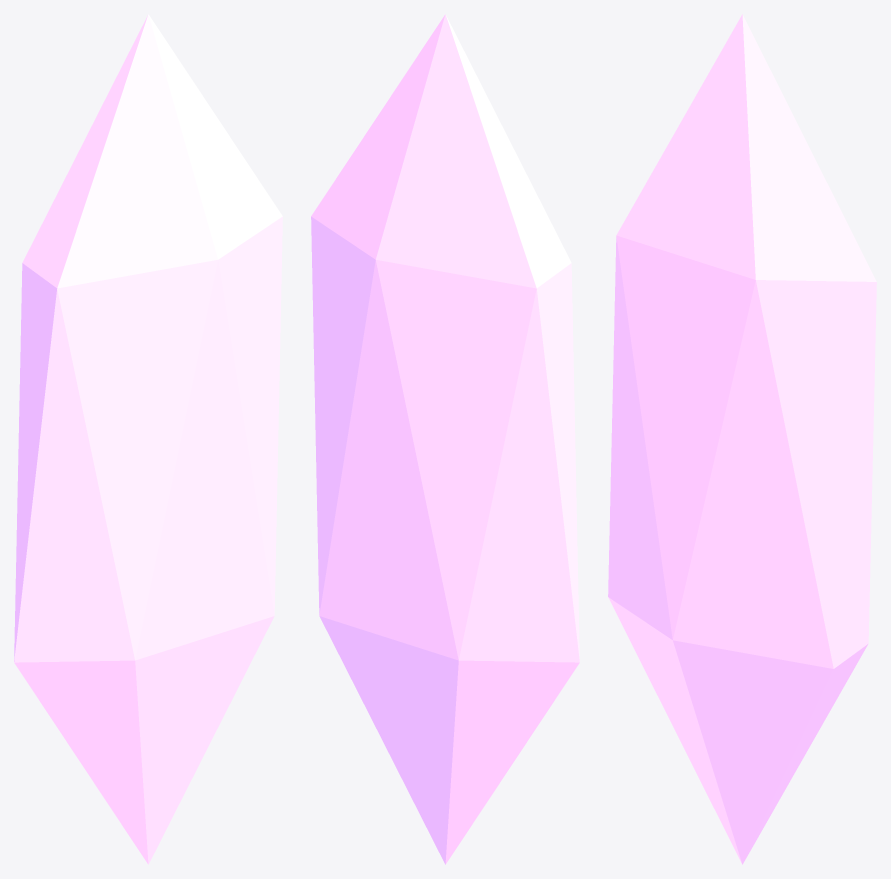
Rendered from arcane_shard_b.glb.
3 views of the same model, side by side, from view 1: azimuth 30°, elevation 25°; view 2: azimuth 150°, elevation 25°; view 3: azimuth 330°, elevation 25° (orthographic).
Parts seen in each view (by area): view 1: arcane_shard_b; view 2: arcane_shard_b; view 3: arcane_shard_b.
Part boxes in pixels (<box>): arcane_shard_b: <box>14,14,282,864</box>; arcane_shard_b: <box>311,14,579,864</box>; arcane_shard_b: <box>608,14,876,864</box>.
Bounding box in the file's own units: 0.3041 × 0.92 × 0.1106.
